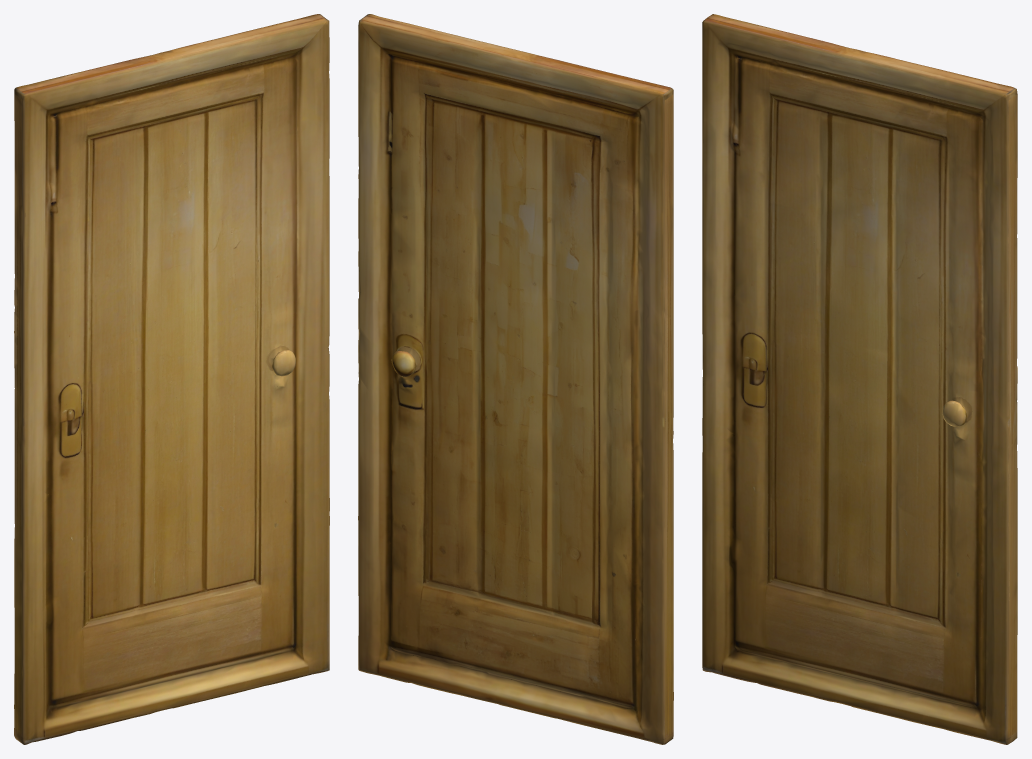
File: Meshy_AI_Wooden_Portal_0124113239_texture.glb
The picture shows the model from 3 angles, left to right: view 1: azimuth 30°, elevation 25°; view 2: azimuth 150°, elevation 25°; view 3: azimuth 330°, elevation 25°; orthographic projection.
Size of the model in its own units: 0.9918 by 2.01 by 0.126.
Materials: 1 (1 with a texture image).
